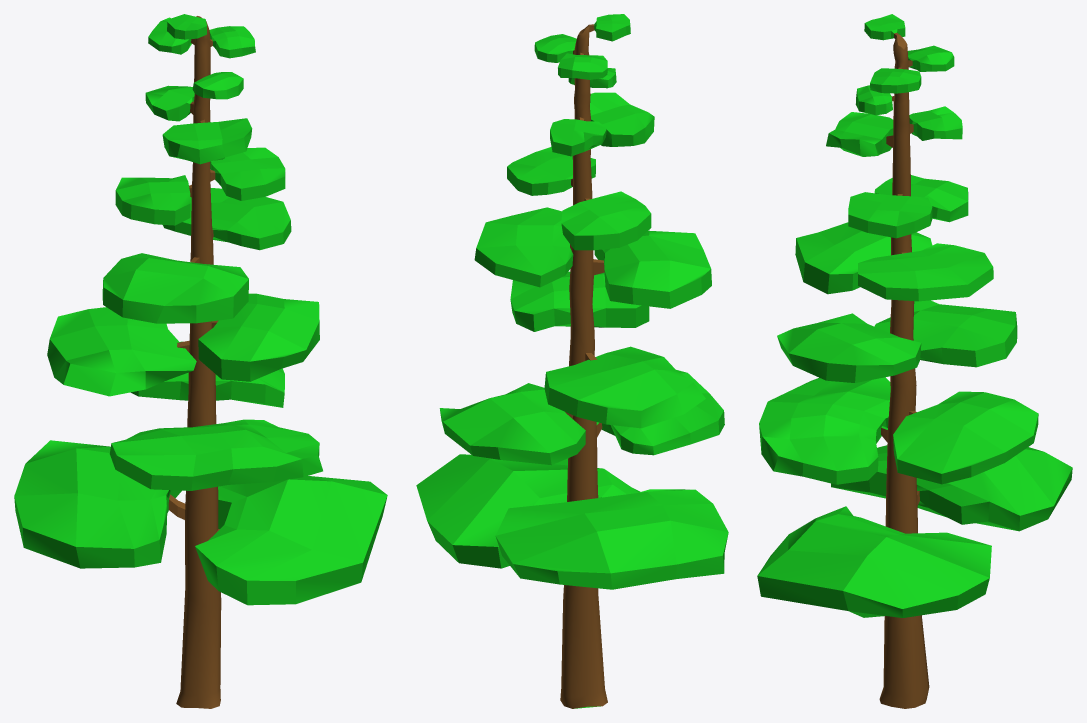
Rendered from baum_c001.FBX.
3 renders of one model, left to right at view 1: azimuth 30°, elevation 25°; view 2: azimuth 150°, elevation 25°; view 3: azimuth 270°, elevation 25°, orthographic. The views are drawn at different scales.
Visible parts, largest first — view 1: Baum_C001; view 2: Baum_C001; view 3: Baum_C001.
Part boxes in pixels (x1,y1,x2,y2): Baum_C001: (14, 14, 387, 708); Baum_C001: (416, 14, 728, 708); Baum_C001: (757, 14, 1072, 708).
Bounding box in the file's own units: 31.75 × 63.52 × 27.19.
